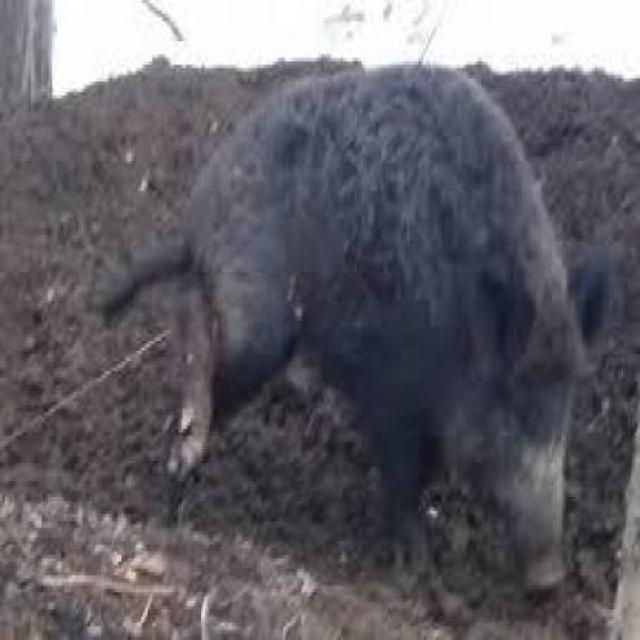wildboar: (94, 52, 623, 598)
